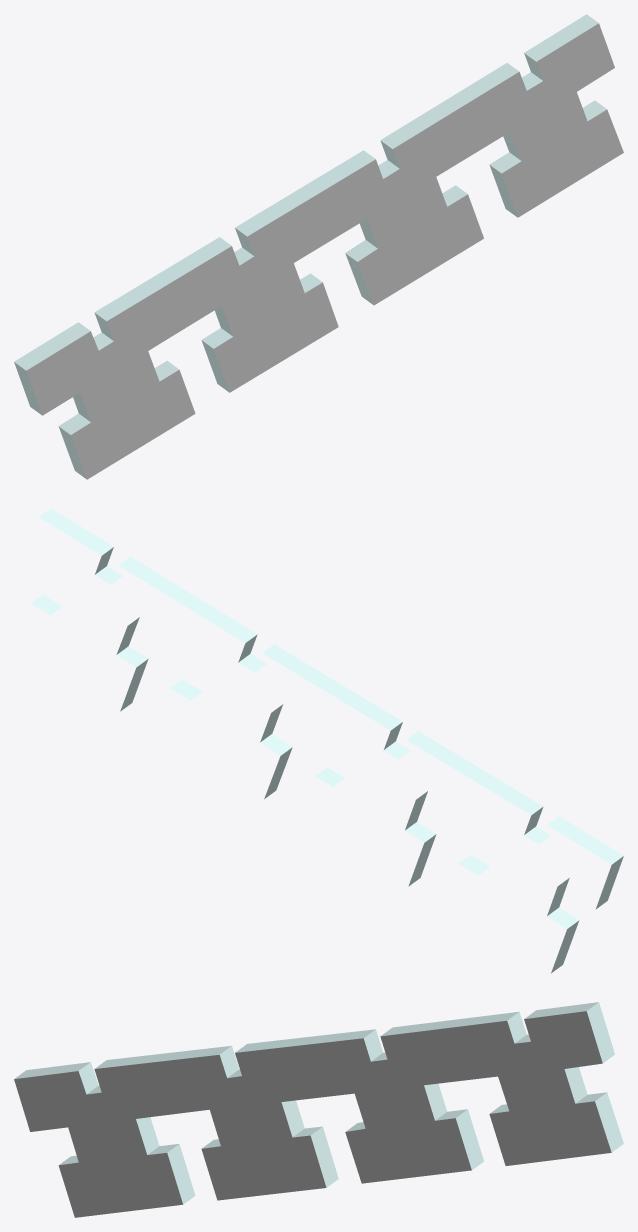
The picture shows the model from 3 angles, top to bottom: view 1: azimuth 30°, elevation 25°; view 2: azimuth 150°, elevation 25°; view 3: azimuth 330°, elevation 25°; orthographic projection.
Parts seen in each view (by area): view 1: 0_1_2_3_1_2_3_1; view 2: 0_1_2_3_1_2_3_1; view 3: 0_1_2_3_1_2_3_1.
Part boxes in pixels (x1=…): 0_1_2_3_1_2_3_1: x1=14, y1=14, x2=623, y2=479; 0_1_2_3_1_2_3_1: x1=31, y1=508, x2=623, y2=973; 0_1_2_3_1_2_3_1: x1=14, y1=1002, x2=623, y2=1217.
Bounding box in the file's own units: 84.17 × 44.63 × 3.
